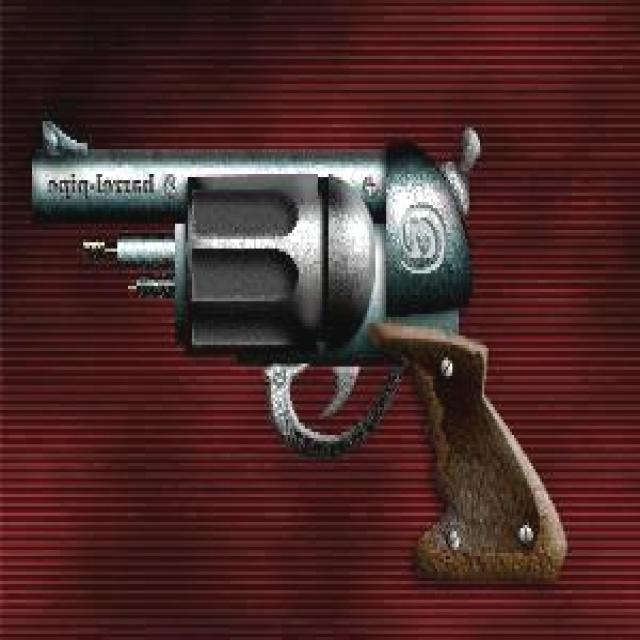pistol: (28, 121, 586, 590)
